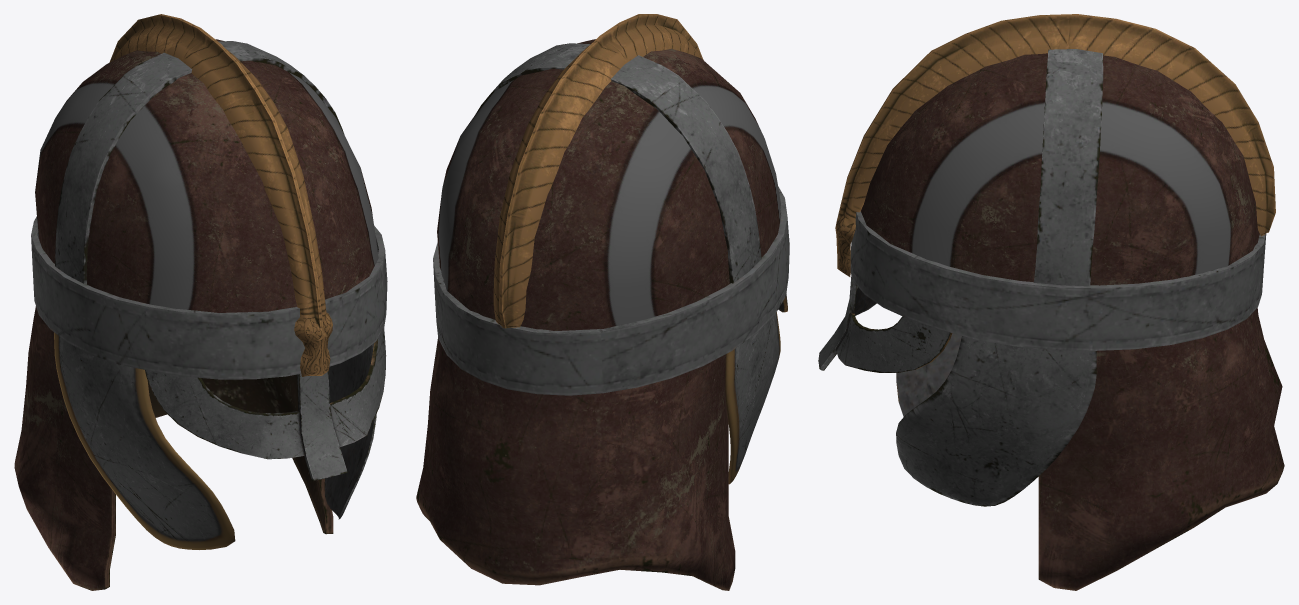
Rendered from cts_rohan_helmet4.fbx.
The picture shows the model from 3 angles, left to right: view 1: azimuth 30°, elevation 25°; view 2: azimuth 150°, elevation 25°; view 3: azimuth 270°, elevation 25°; orthographic projection.
Visible parts, largest first — view 1: cts_rohan_helmet4; view 2: cts_rohan_helmet4; view 3: cts_rohan_helmet4.
Boxes of the visible parts, box(x1,y1,x2,y2) form: cts_rohan_helmet4: box(14, 14, 387, 590); cts_rohan_helmet4: box(416, 14, 789, 590); cts_rohan_helmet4: box(818, 14, 1284, 590).
Size of the model in its own units: 0.1901 by 0.2706 by 0.3305.
1 material, 1 textured.
